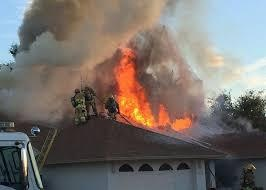fire: (110, 46, 197, 135)
